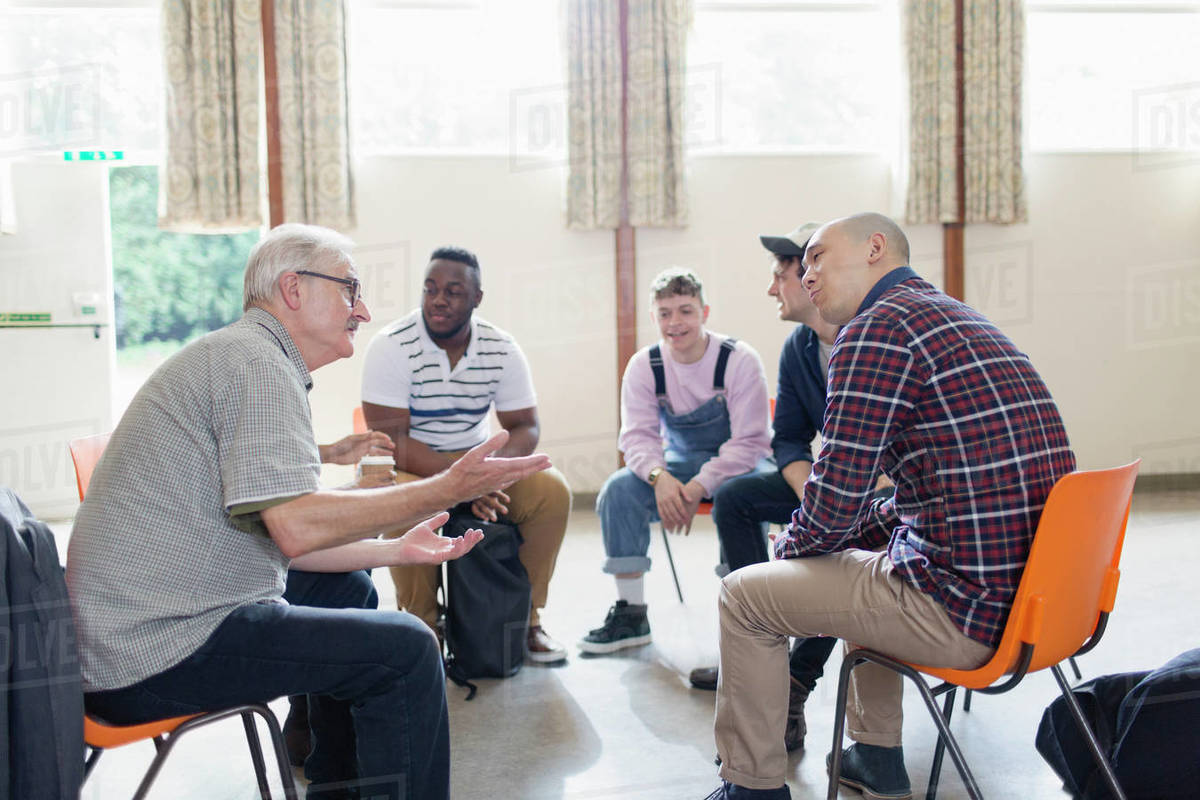Person: (65, 223, 556, 800), (709, 213, 1079, 800), (357, 245, 571, 665), (572, 270, 772, 658)
